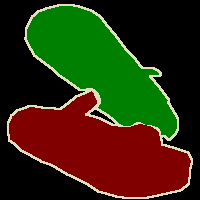shoe: (25, 4, 178, 140), (8, 89, 192, 198)
